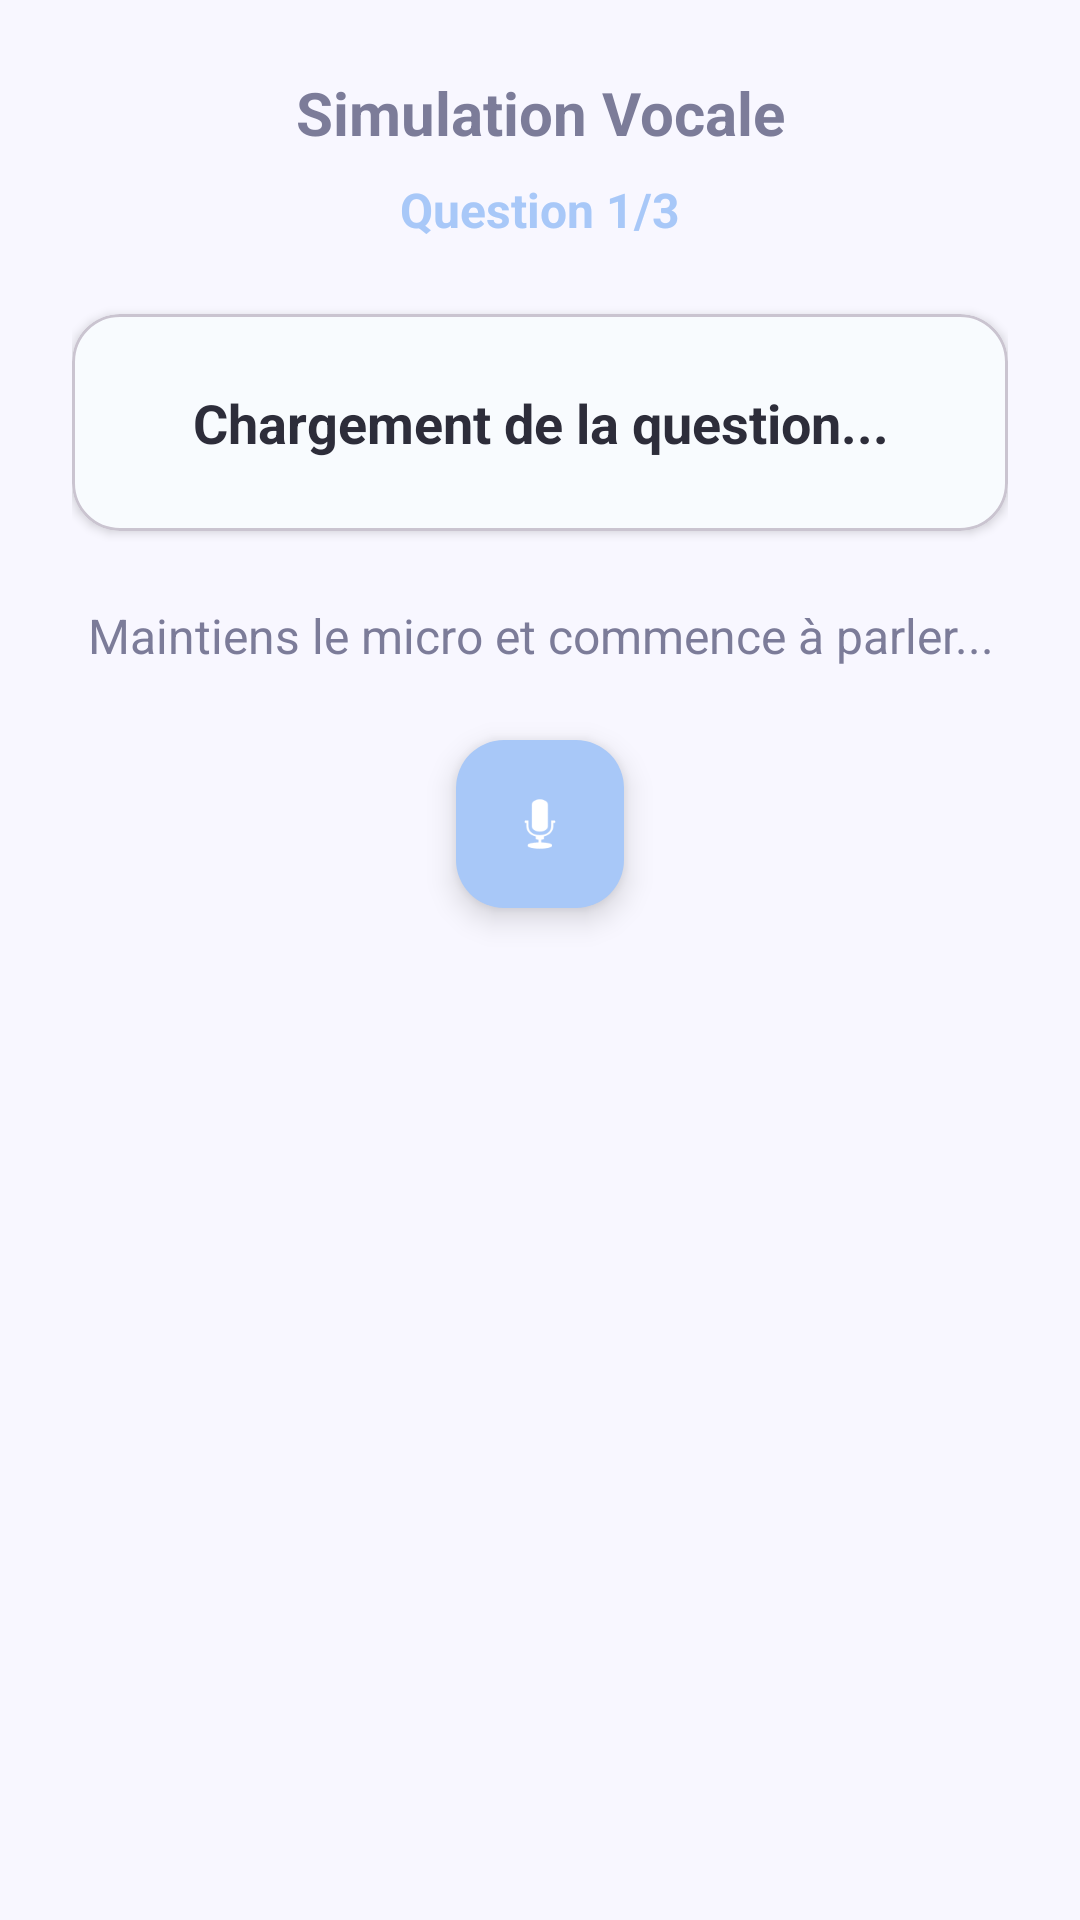

Icons on this 1080x1920 Android screen, each with the point to tap as point (x, y):
Microphone: point (540, 824)
